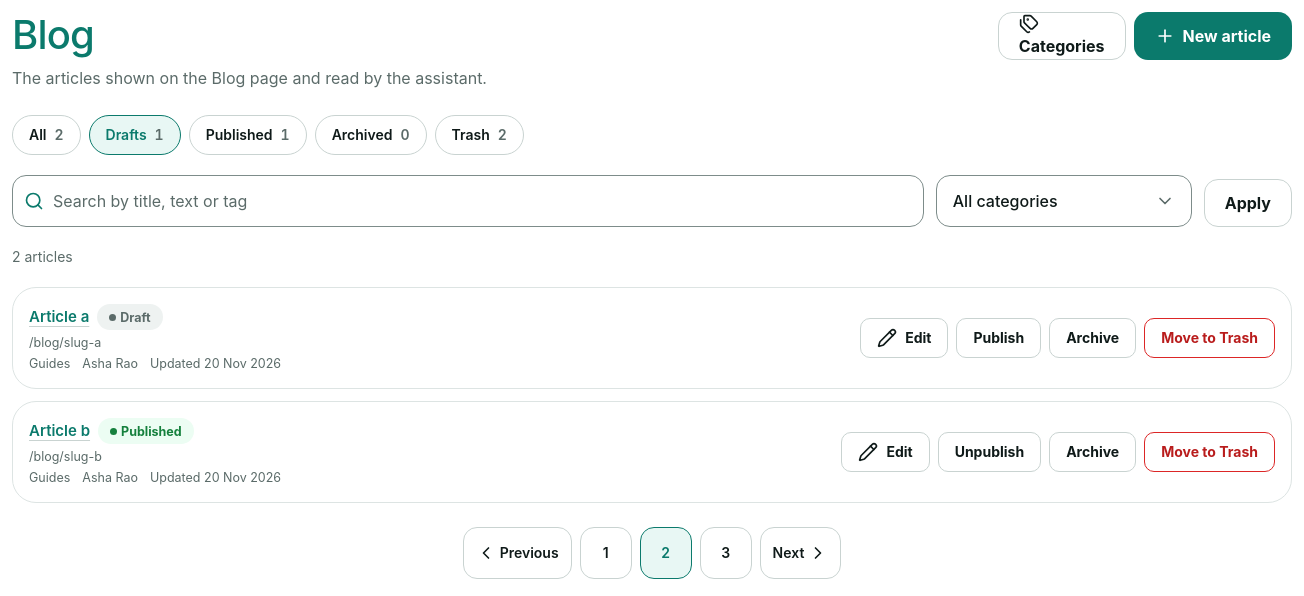
BlogAdminBoard (ADR-143): the admin's list › marks a hidden category in the filter, and pages through the list in the address
This screenshot has width=1304, height=596.
Click the dropdown named "Filter by category" at [1064, 201], box [936, 175, 1192, 227]
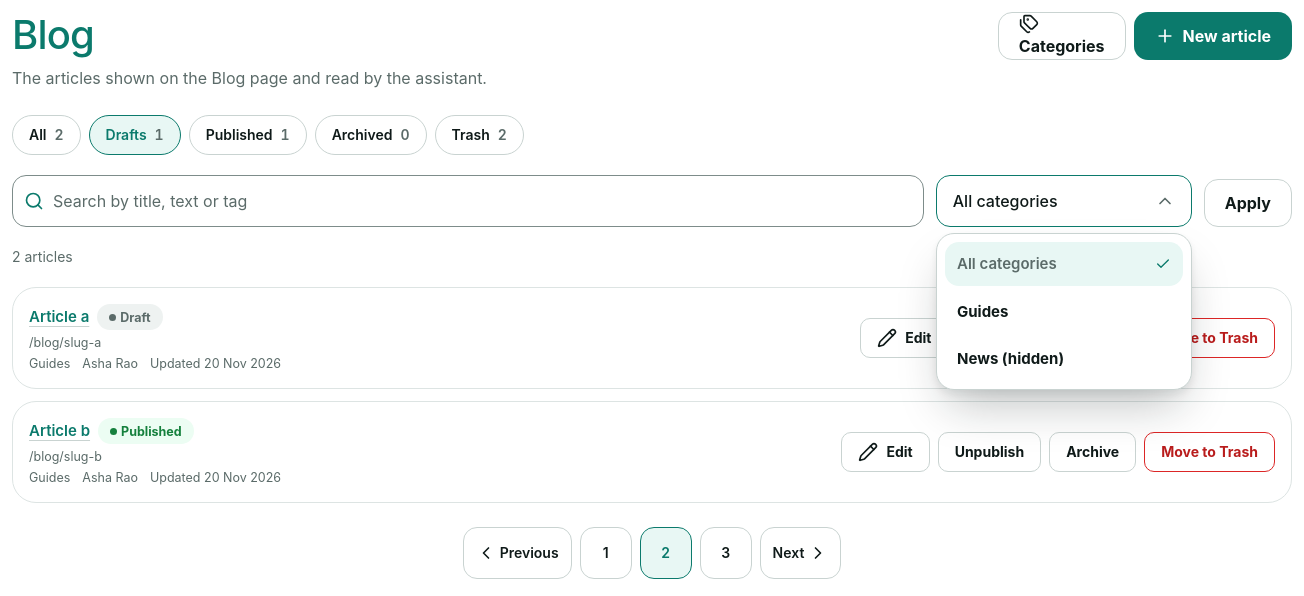
Result: the option "News (hidden)" is shown at [957, 349, 1064, 368]
